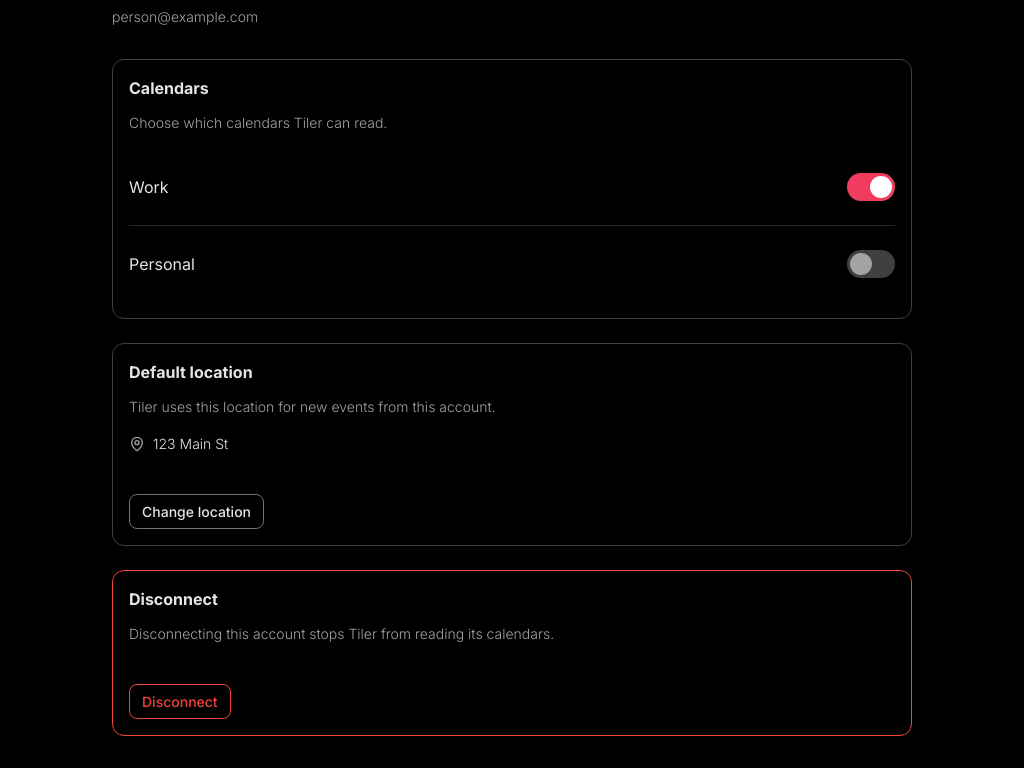
Scenario: ConnectionsDetailSettings › disconnect › opens the confirmation modal and closes it again via Cancel
(page scrolled)
Click the button "Disconnect" at (180, 702), box x1=129 y1=684 x2=231 y2=719
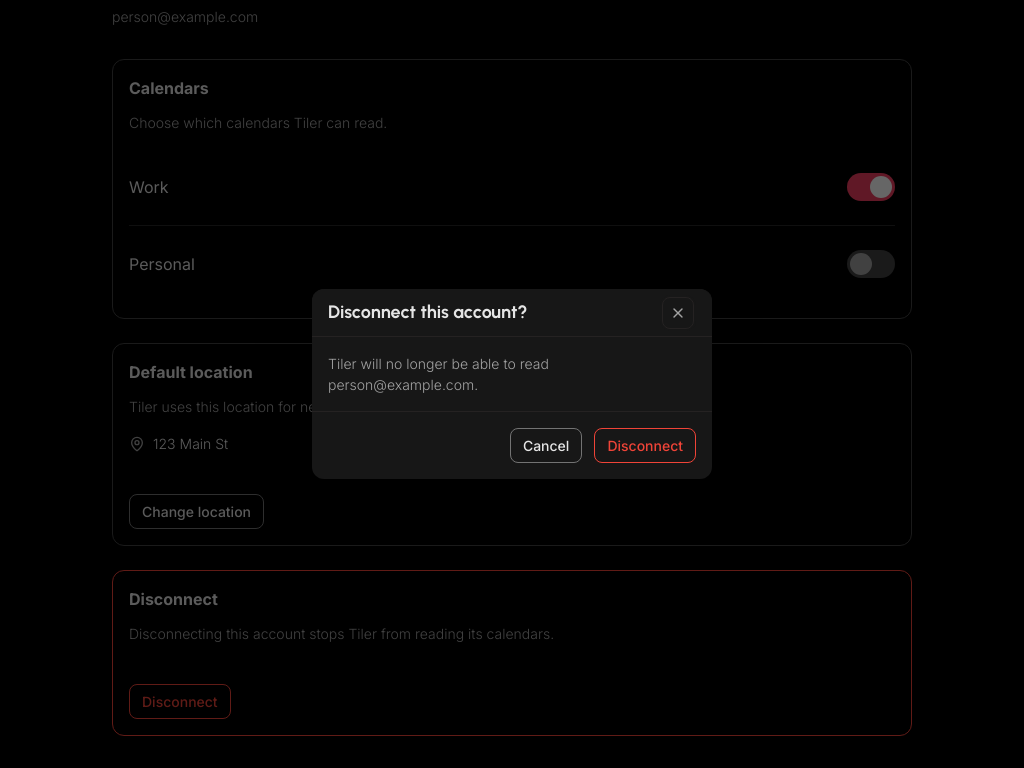
expect the text "Tiler will no longer be able to read person@example.com." is shown: met, box x1=328 y1=355 x2=549 y2=393
expect the button "Cancel" is shown: met
Click the button "Cancel" at (546, 446), box x1=510 y1=428 x2=582 y2=463
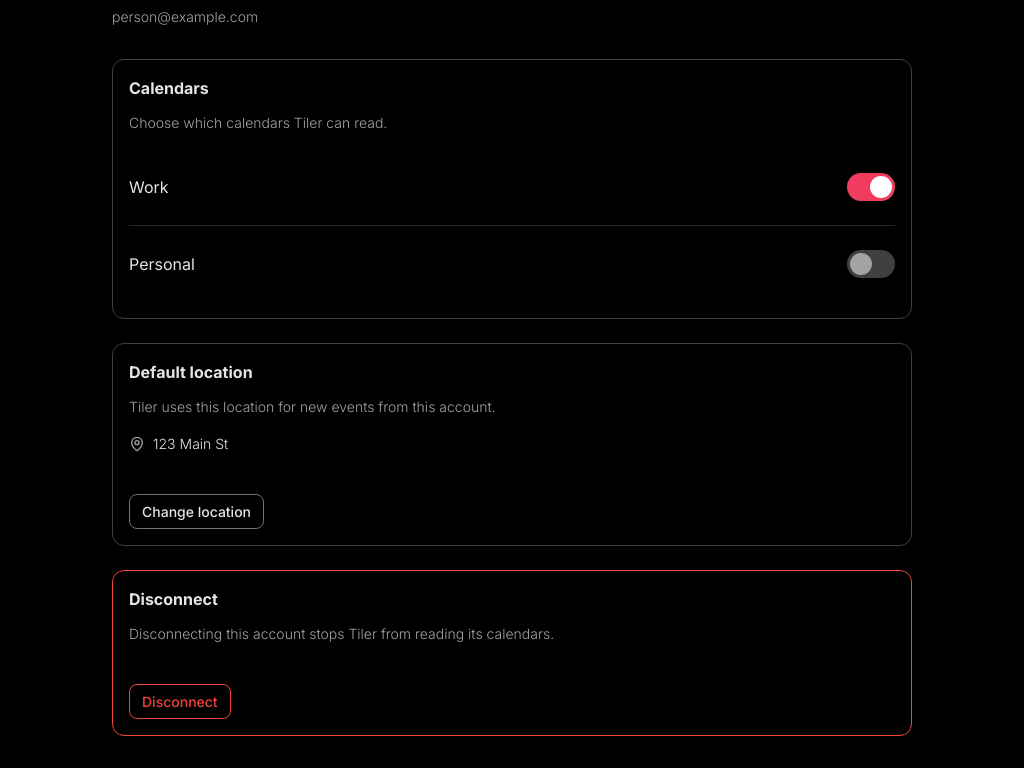
expect the button "Disconnect" is shown: met, box x1=129 y1=684 x2=231 y2=719
expect the heading "Disconnect this account?" is gone: met
